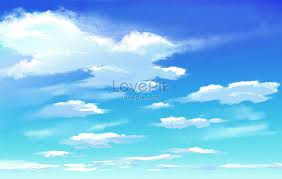sky: (1, 1, 282, 178)
